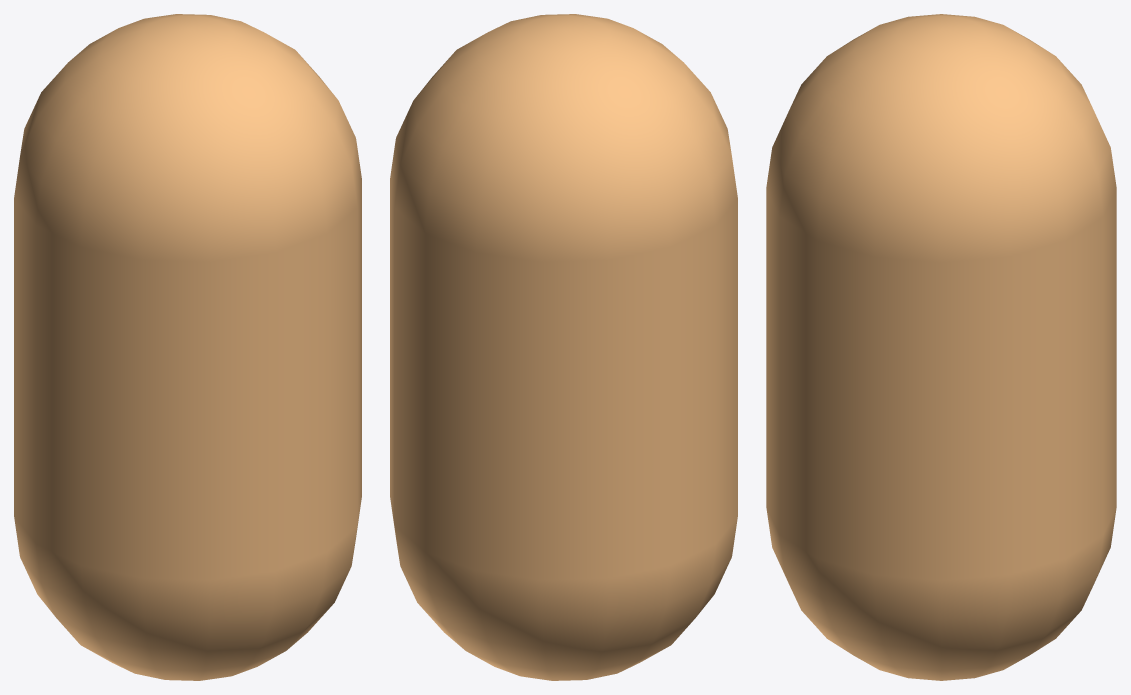
File: lab-hero.glb
3 views of the same model, side by side, from view 1: azimuth 30°, elevation 25°; view 2: azimuth 150°, elevation 25°; view 3: azimuth 270°, elevation 25° (orthographic).
Parts seen in each view (by area): view 1: hero; view 2: hero; view 3: hero.
Boxes of the visible parts, bbox=[...] form: hero: bbox=[14, 14, 361, 680]; hero: bbox=[390, 14, 737, 680]; hero: bbox=[766, 14, 1116, 680].
Bounding box in the file's own units: 24 × 48 × 24.
